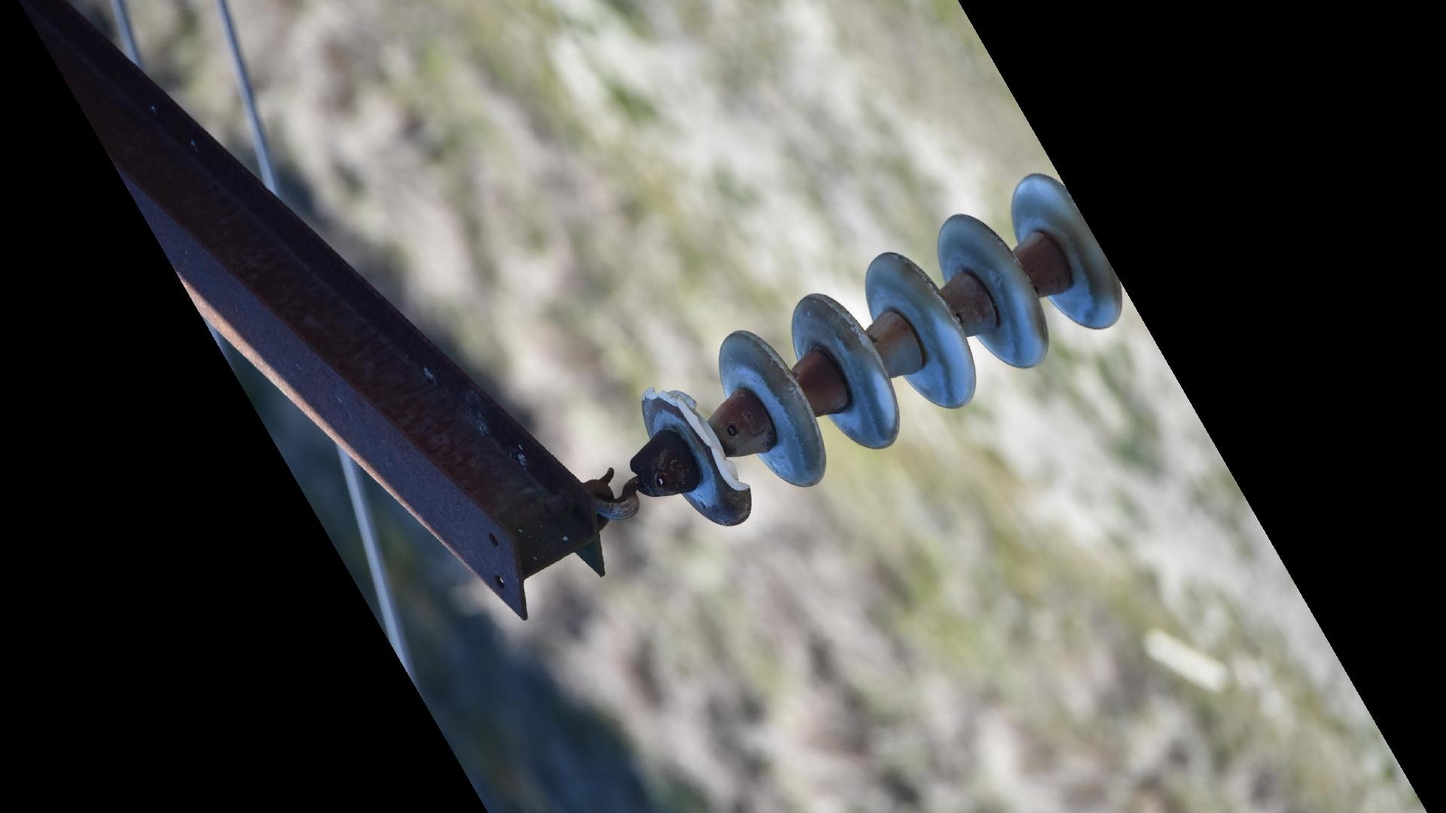insulator: (634, 168, 1131, 534)
insulator_breakage: (630, 380, 758, 504)
